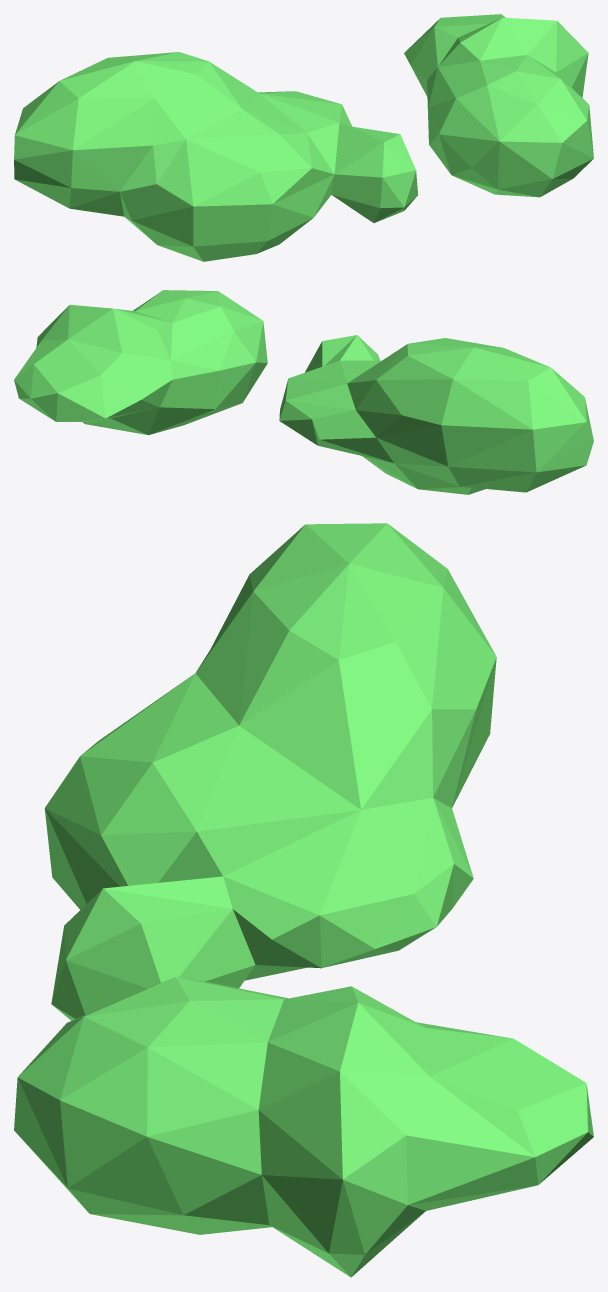
Rendered from cloud_05.glb.
3 renders of one model, top to bottom at view 1: azimuth 30°, elevation 25°; view 2: azimuth 150°, elevation 25°; view 3: azimuth 270°, elevation 25°, orthographic. The views are drawn at different scales.
Visible parts, largest first — view 1: cloud_05; view 2: cloud_05; view 3: cloud_05.
Boxes of the visible parts, bbox=[...] form: cloud_05: bbox=[14, 14, 593, 261]; cloud_05: bbox=[14, 290, 593, 494]; cloud_05: bbox=[14, 523, 593, 1277].
Size of the model in its own units: 8.6 by 2.53 by 3.93.
